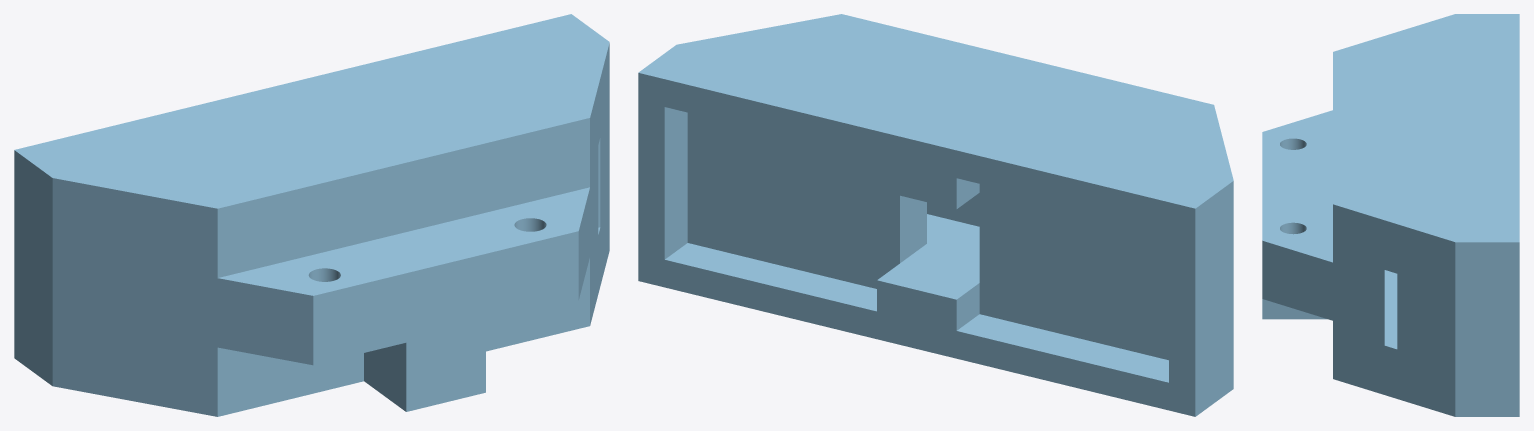
The model's file is force_sensor.dae.
3 renders of one model, left to right at view 1: azimuth 30°, elevation 25°; view 2: azimuth 150°, elevation 25°; view 3: azimuth 270°, elevation 25°, orthographic. The views are drawn at different scales.
Visible parts, largest first — view 1: ID2; view 2: ID2; view 3: ID2.
Part boxes in pixels (x1,y1,x2,y2): ID2: [14, 14, 609, 416]; ID2: [638, 14, 1233, 416]; ID2: [1262, 14, 1519, 416].
Size of the model in its own units: 0.084 by 0.04 by 0.03.
